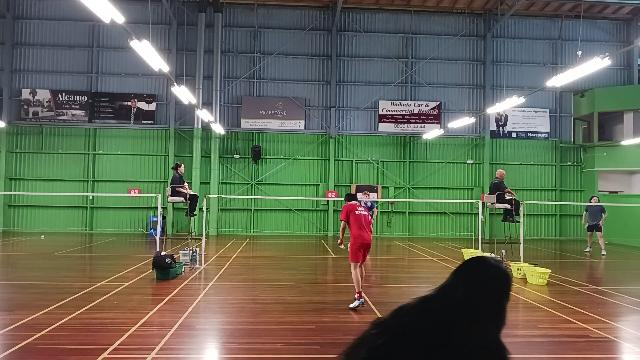Shuttlecock: (337, 240, 348, 250)
